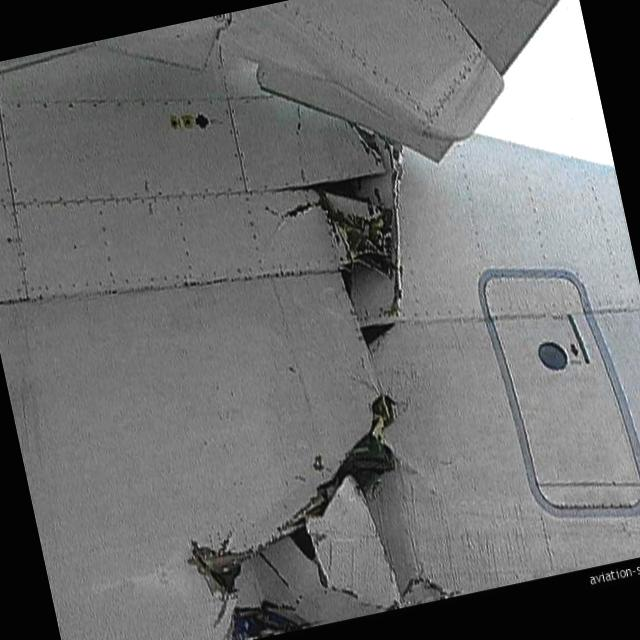crack: (158, 383, 447, 638)
